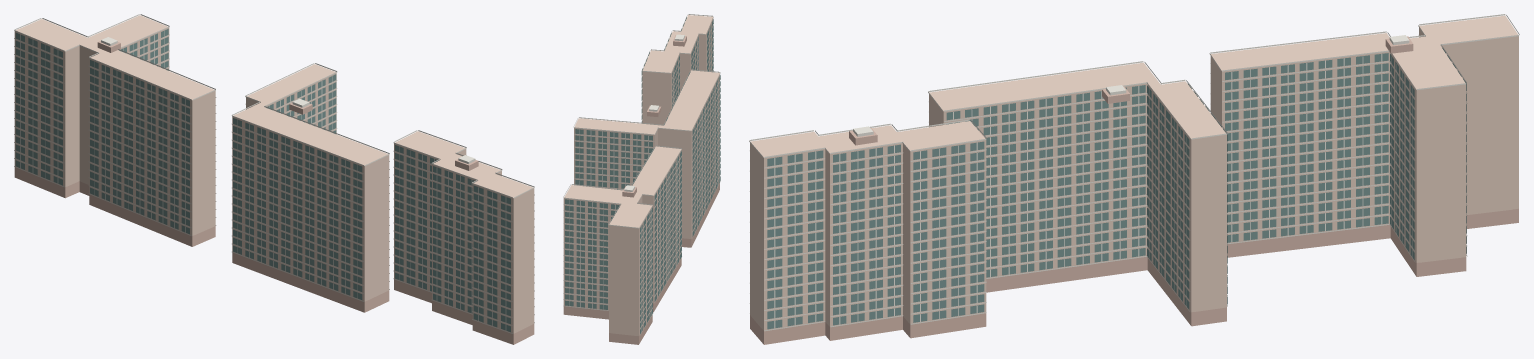
Rendered from representative-a13204506.glb.
3 renders of one model, left to right at view 1: azimuth 30°, elevation 25°; view 2: azimuth 150°, elevation 25°; view 3: azimuth 270°, elevation 25°, orthographic. The views are drawn at different scales.
Parts seen in each view (by area): view 1: A13204506_wall001, A13204506_glass001, A13204506_trim001, A13204506_base001, A13204506_roof001; view 2: A13204506_wall001, A13204506_glass001, A13204506_trim001, A13204506_base001, A13204506_roof001; view 3: A13204506_wall001, A13204506_glass001, A13204506_trim001, A13204506_base001, A13204506_roof001.
Boxes of the visible parts, x1,y1,x2,y2 form: A13204506_wall001: (14, 15, 534, 333); A13204506_glass001: (15, 29, 510, 332); A13204506_trim001: (14, 14, 534, 333); A13204506_base001: (14, 167, 534, 344); A13204506_roof001: (97, 41, 478, 170); A13204506_wall001: (563, 15, 719, 335); A13204506_glass001: (565, 17, 720, 333); A13204506_trim001: (563, 14, 720, 334); A13204506_base001: (563, 183, 719, 344); A13204506_roof001: (622, 35, 686, 197); A13204506_wall001: (750, 15, 1518, 330); A13204506_glass001: (767, 47, 1466, 329); A13204506_trim001: (749, 14, 1519, 331); A13204506_base001: (750, 208, 1518, 344); A13204506_roof001: (849, 36, 1413, 145).
Bounding box in the file's own units: 86.98 × 55.8 × 198.
